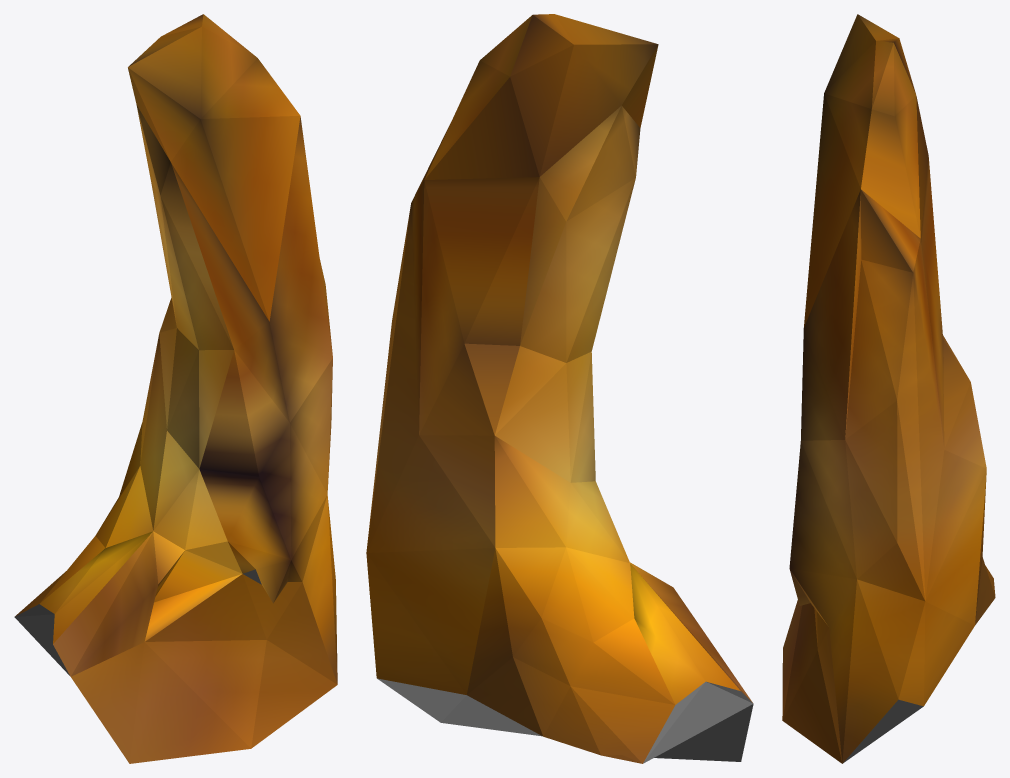
The model's file is dactylopodite5_left.obj.
3 renders of one model, left to right at view 1: azimuth 30°, elevation 25°; view 2: azimuth 150°, elevation 25°; view 3: azimuth 270°, elevation 25°, orthographic. The views are drawn at different scales.
Parts seen in each view (by area): view 1: 5_left_leg_5_left.048; view 2: 5_left_leg_5_left.048; view 3: 5_left_leg_5_left.048.
Part boxes in pixels (x1,y1,x2,y2): 5_left_leg_5_left.048: (14, 14, 337, 763); 5_left_leg_5_left.048: (366, 14, 753, 763); 5_left_leg_5_left.048: (782, 14, 995, 763).
Bounding box in the file's own units: 0.1832 × 0.3994 × 0.113.
8 materials, 7 textured.
